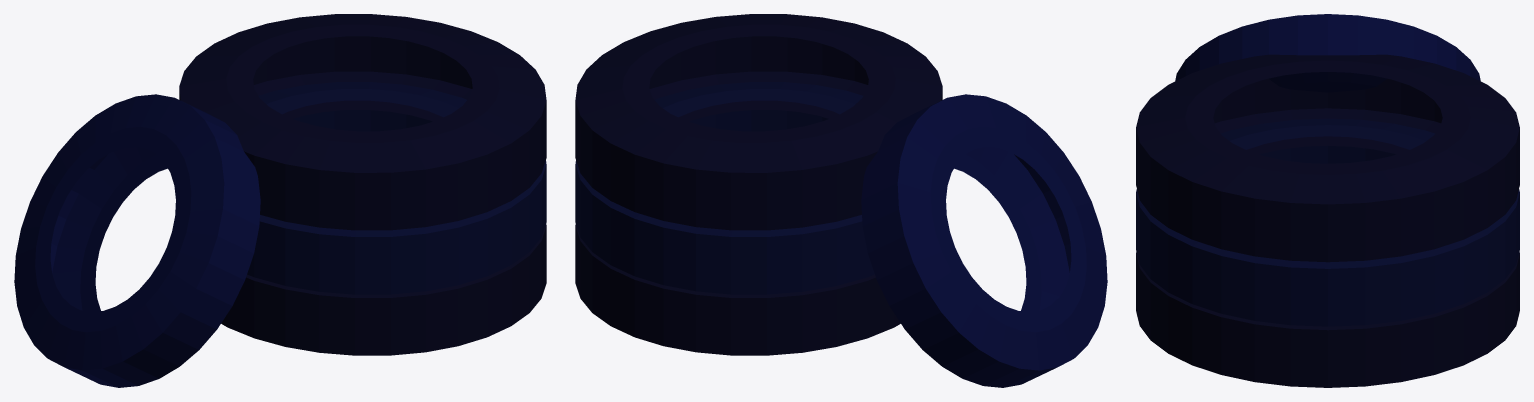
The model's file is NEUMATICOS.fbx.
3 views of the same model, side by side, from view 1: azimuth 30°, elevation 25°; view 2: azimuth 150°, elevation 25°; view 3: azimuth 270°, elevation 25° (orthographic).
Parts seen in each view (by area): view 1: Cylinder.002, Cylinder.003, Cylinder.001, Cylinder; view 2: Cylinder.002, Cylinder.003, Cylinder.001, Cylinder; view 3: Cylinder.002, Cylinder.001, Cylinder, Cylinder.003.
Part boxes in pixels (x1,y1,x2,y2): Cylinder.002: (179, 14, 546, 230); Cylinder.003: (14, 94, 260, 387); Cylinder.001: (247, 82, 546, 294); Cylinder: (221, 224, 546, 355); Cylinder.002: (575, 14, 942, 230); Cylinder.003: (861, 94, 1107, 387); Cylinder.001: (575, 82, 874, 294); Cylinder: (575, 224, 900, 355); Cylinder.002: (1136, 54, 1519, 262); Cylinder.001: (1136, 118, 1519, 326); Cylinder: (1136, 252, 1519, 387); Cylinder.003: (1175, 14, 1480, 92).
Bounding box in the file's own units: 395 × 195 × 277.
